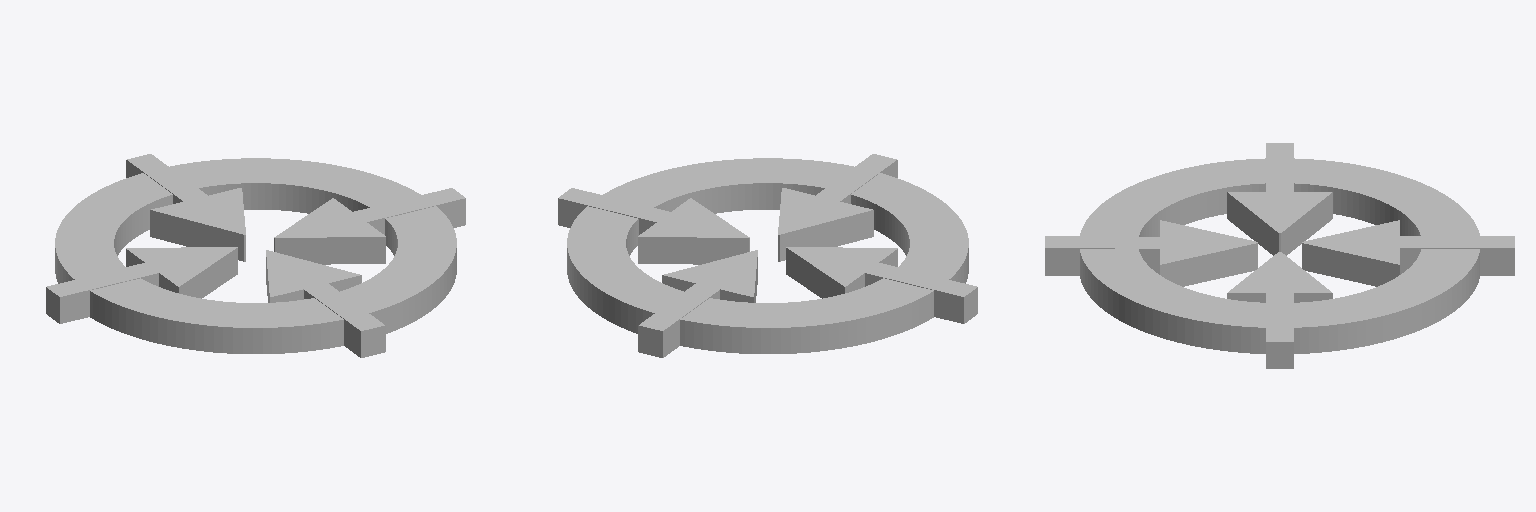
File: placer.obj
3 views of the same model, side by side, from view 1: azimuth 30°, elevation 25°; view 2: azimuth 150°, elevation 25°; view 3: azimuth 270°, elevation 25° (orthographic).
Visible parts, largest first — view 1: Placer_Circle; view 2: Placer_Circle; view 3: Placer_Circle.
Part boxes in pixels (bbox=[...]): Placer_Circle: bbox=[46, 154, 465, 357]; Placer_Circle: bbox=[558, 154, 977, 357]; Placer_Circle: bbox=[1045, 143, 1514, 368].
Bounding box in the file's own units: 4.67 × 0.2972 × 4.67.